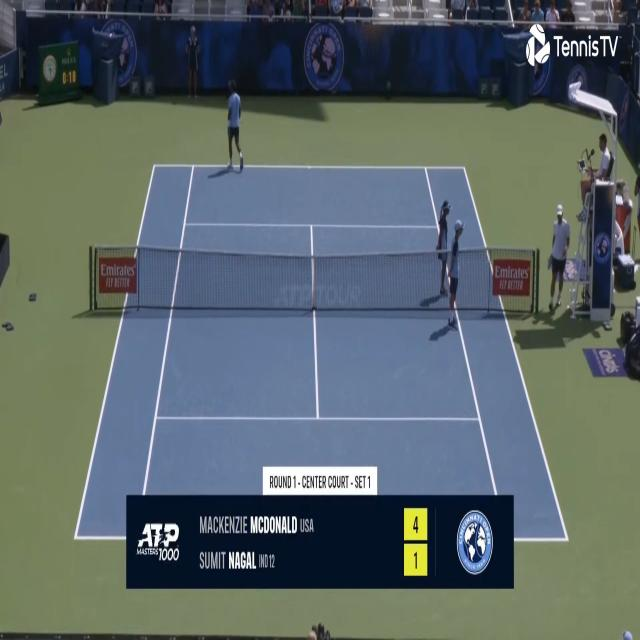tennis-player: (546, 202, 572, 318), (223, 76, 246, 172)
